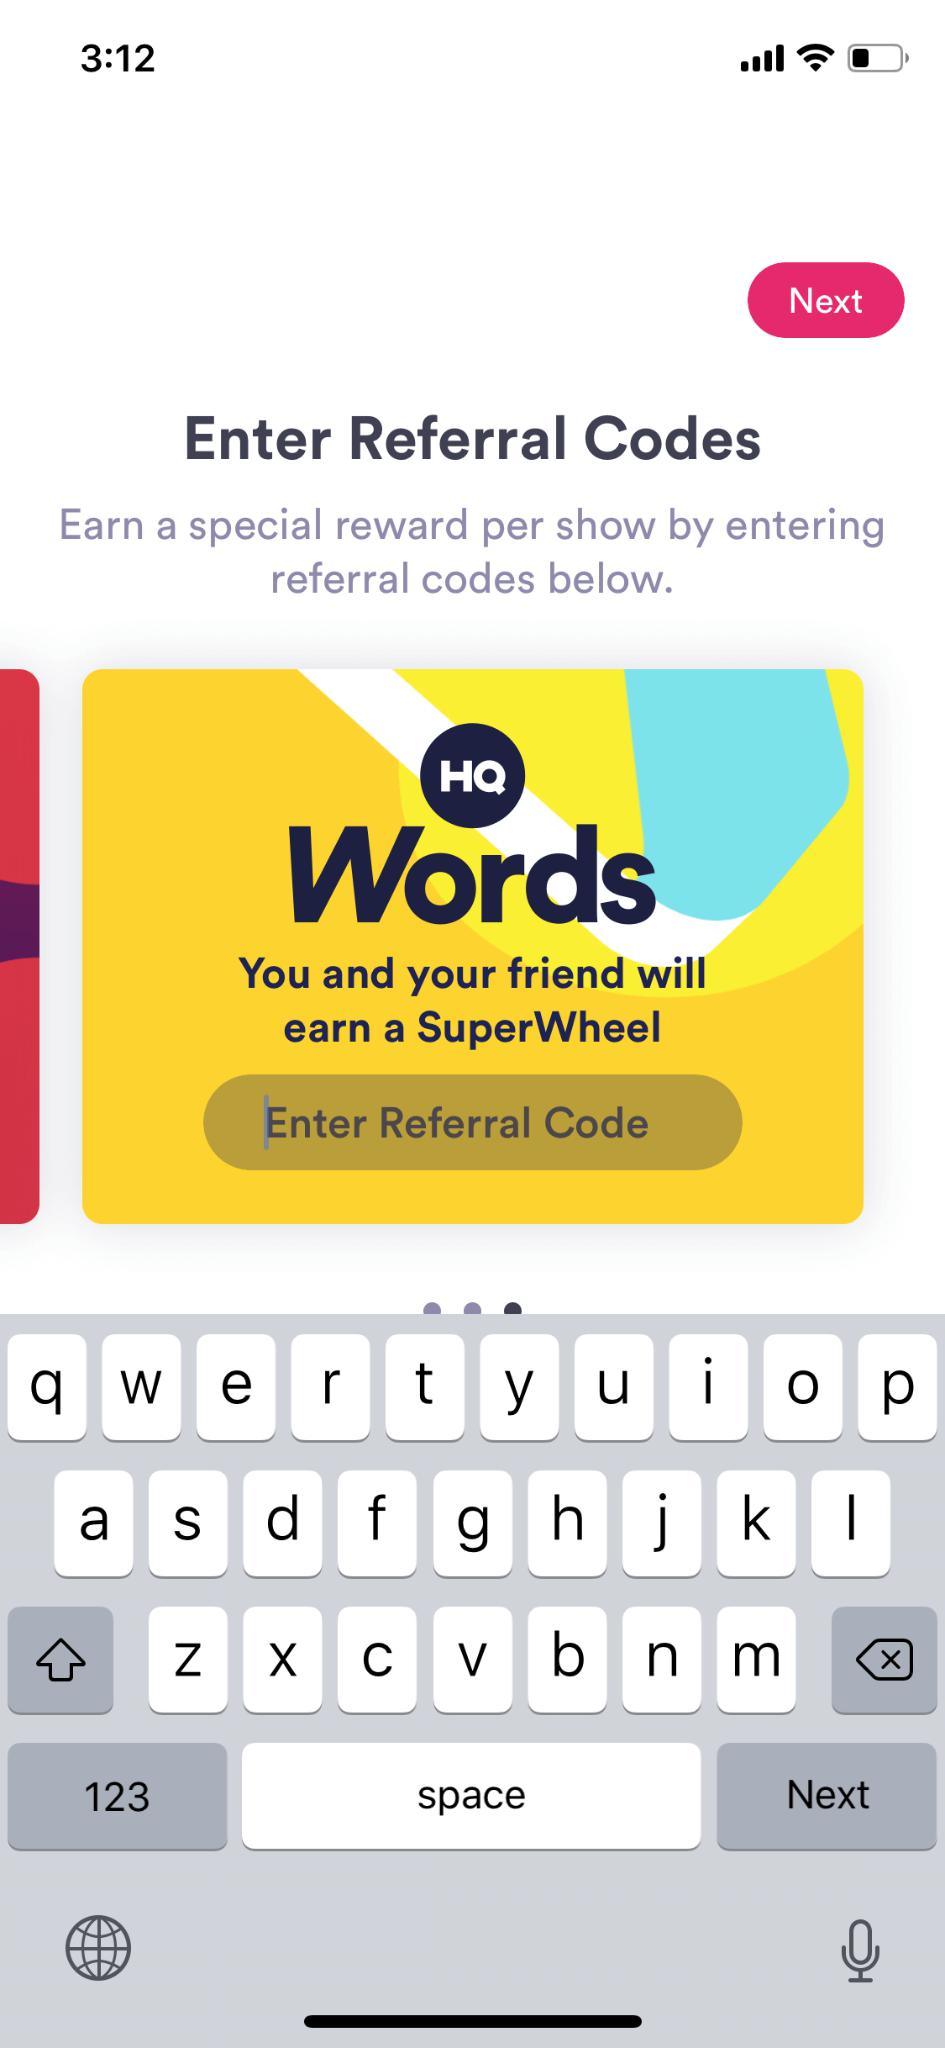Buttons: (741, 252, 914, 357)
Page Controls: (403, 1279, 540, 1318)
Text Fields: (197, 1062, 751, 1189)
